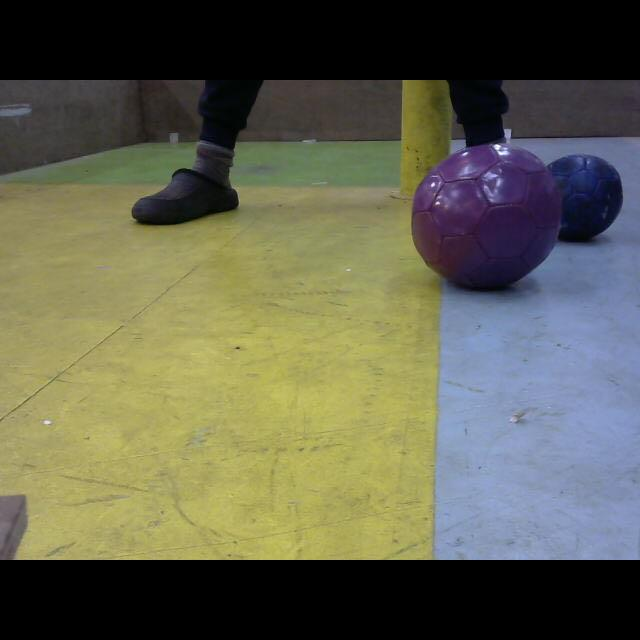P: (410, 140, 564, 292)
